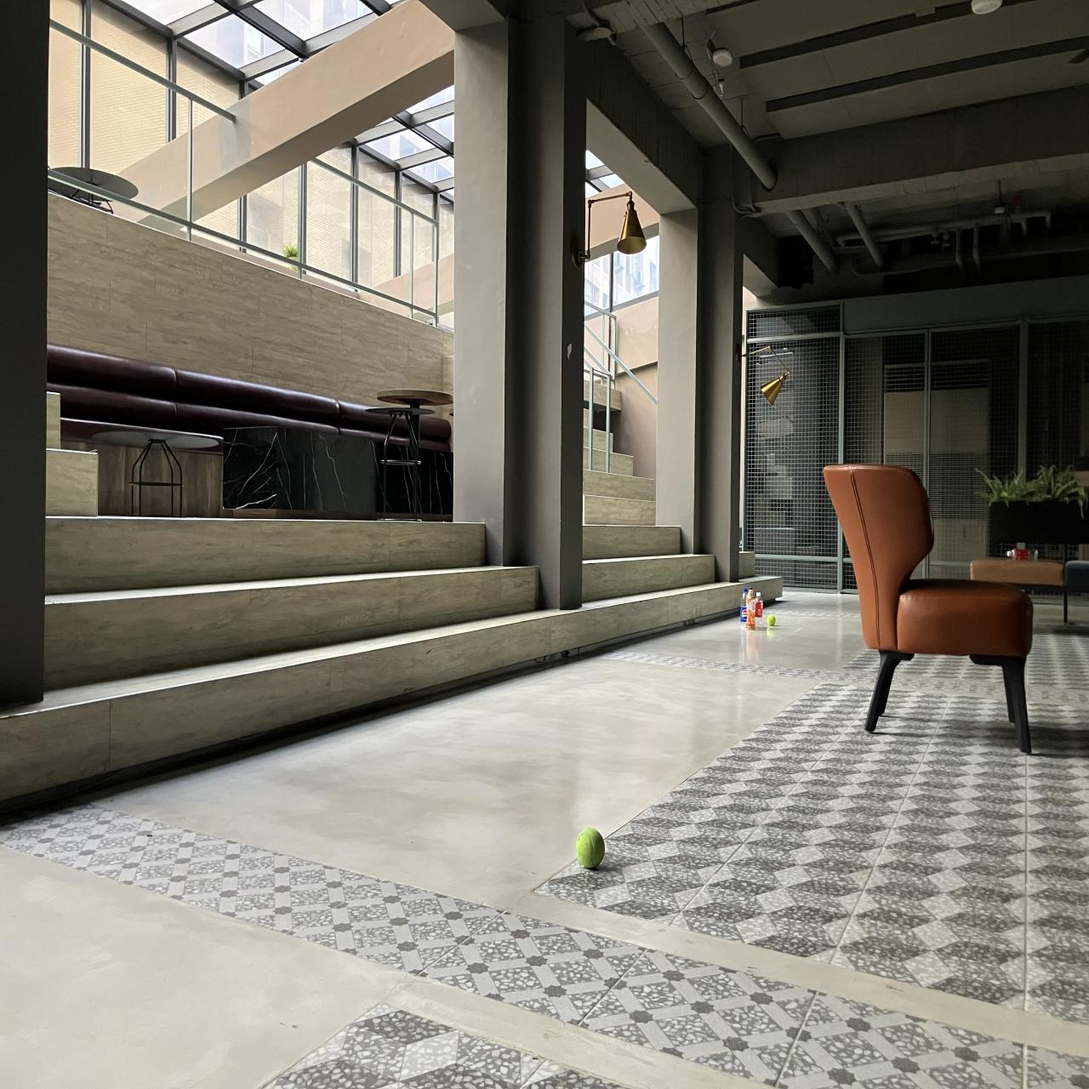plastic-bottle: (755, 592, 765, 629), (746, 589, 755, 629), (747, 587, 755, 626), (740, 589, 748, 624)
tennisball: (576, 828, 605, 869), (767, 614, 776, 627)
